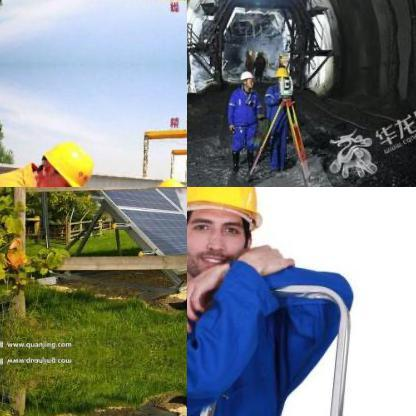Helmet: (187, 187, 272, 280), (29, 130, 105, 186), (150, 173, 186, 186), (273, 64, 289, 86), (238, 68, 254, 88)
